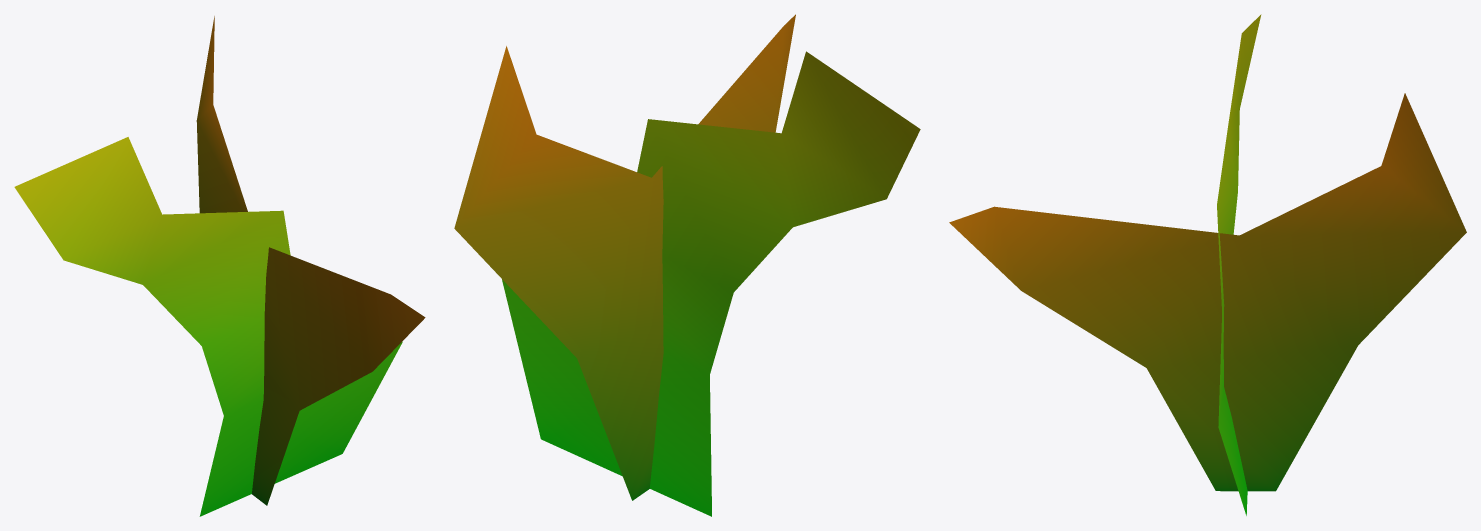
The model's file is Var11Hi7.fbx.
3 renders of one model, left to right at view 1: azimuth 30°, elevation 25°; view 2: azimuth 150°, elevation 25°; view 3: azimuth 270°, elevation 25°, orthographic. The views are drawn at different scales.
Parts seen in each view (by area): view 1: bend1; view 2: bend1; view 3: bend1.
Boxes of the visible parts, x1,y1,x2,y2 form: bend1: (14, 16, 425, 516); bend1: (454, 14, 920, 516); bend1: (949, 14, 1466, 515).
Bounding box in the file's own units: 1.35 × 1.49 × 1.63.
